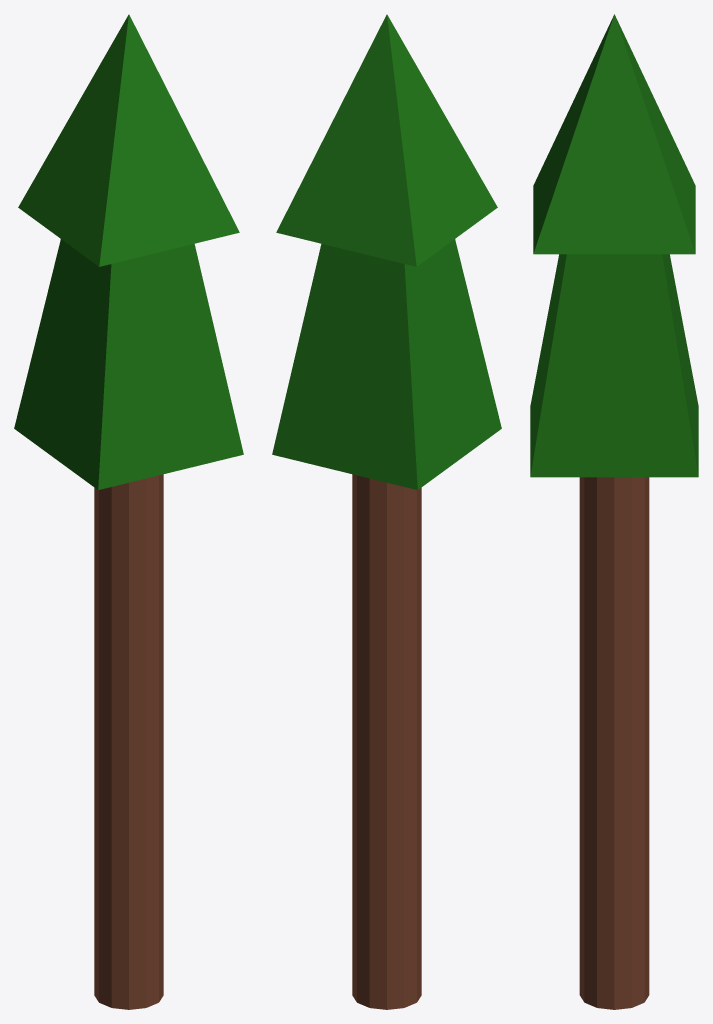
The model's file is Tree_16_summer_vc.fbx.
The picture shows the model from 3 angles, left to right: view 1: azimuth 30°, elevation 25°; view 2: azimuth 150°, elevation 25°; view 3: azimuth 270°, elevation 25°; orthographic projection.
Parts seen in each view (by area): view 1: Tree_16_summer_vc; view 2: Tree_16_summer_vc; view 3: Tree_16_summer_vc.
Part boxes in pixels (x1,y1,x2,y2): Tree_16_summer_vc: (14, 14, 243, 1009); Tree_16_summer_vc: (272, 14, 501, 1009); Tree_16_summer_vc: (530, 14, 698, 1009).
Bounding box in the file's own units: 1.4 × 8.98 × 1.4.
